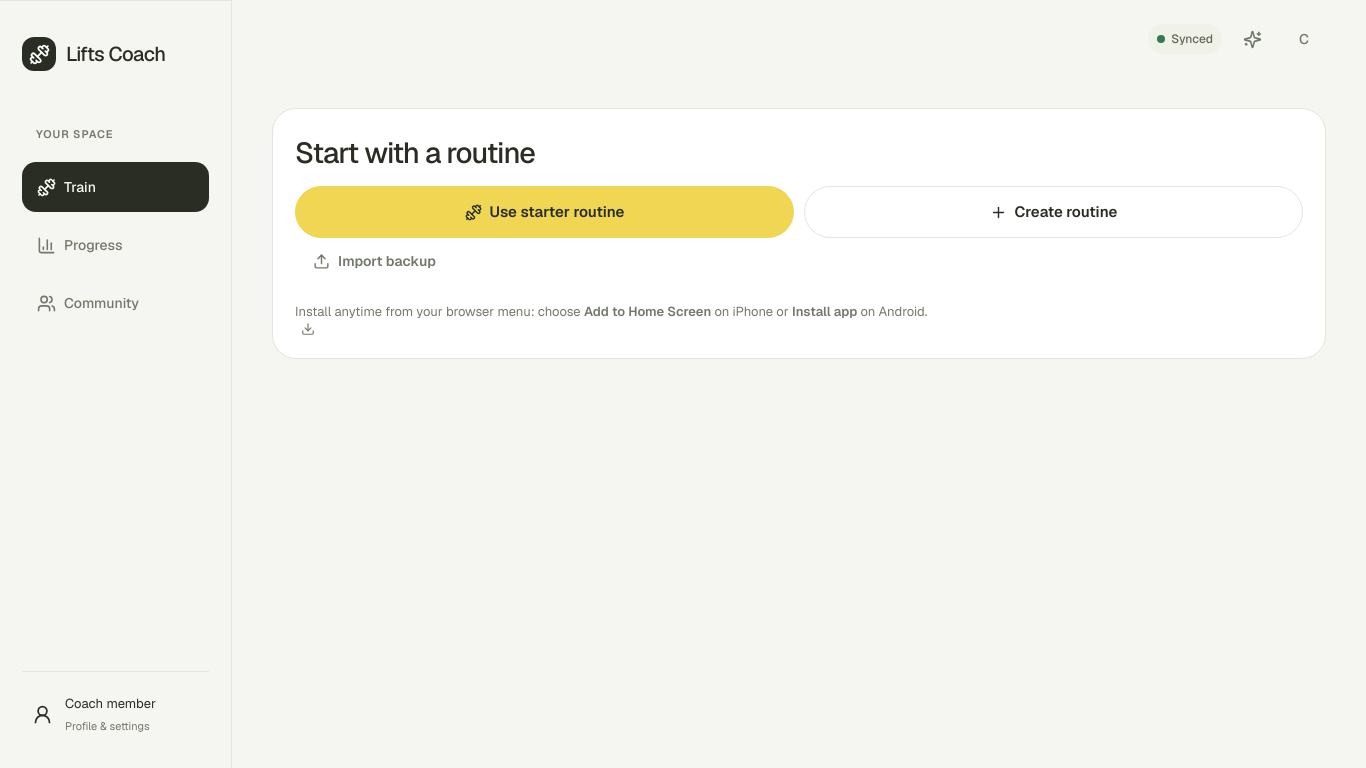
Test: chats across turns with a provisioned default when the saved model is blank
Click the button named "Ask Coach": [1252, 39] box [1230,17,1274,61]
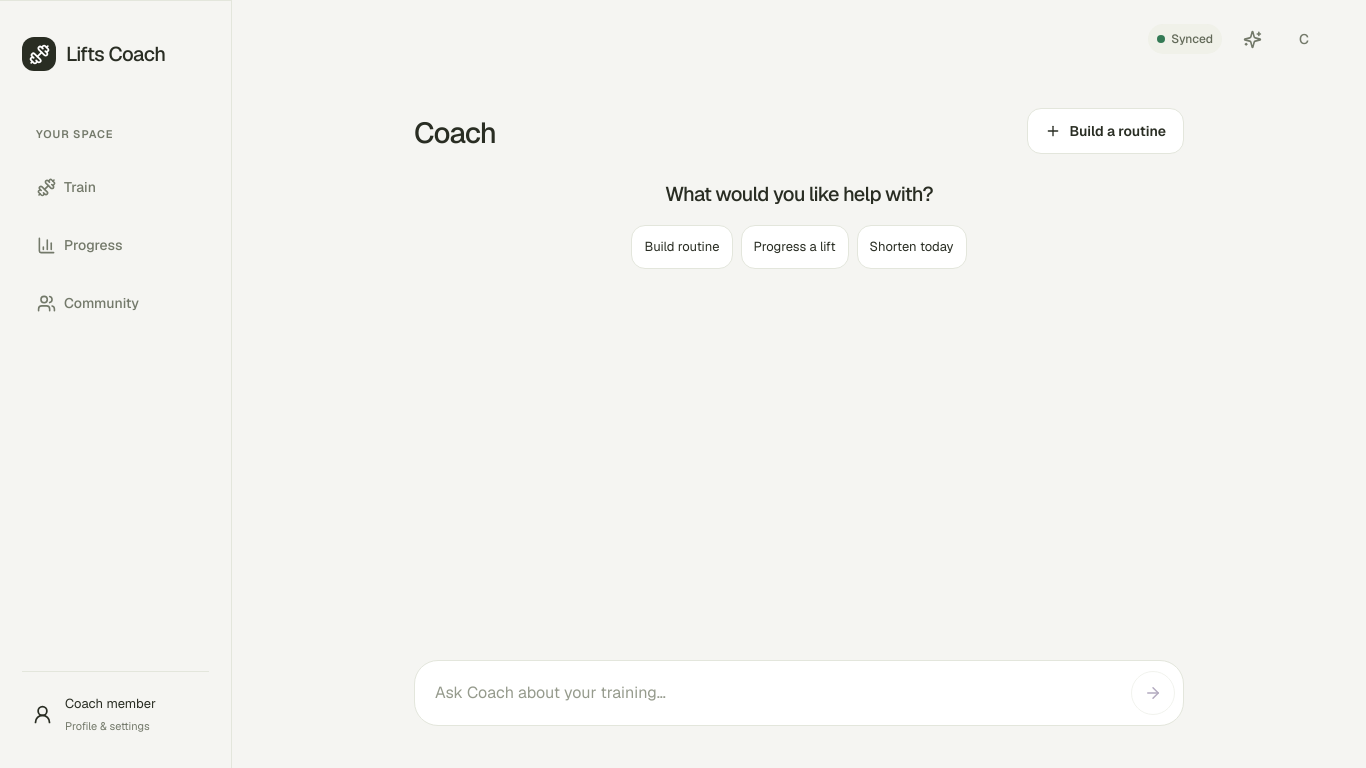
In the text box named "Message Coach": [773, 693] box [423,669,1123,717], type "I train twice a week"
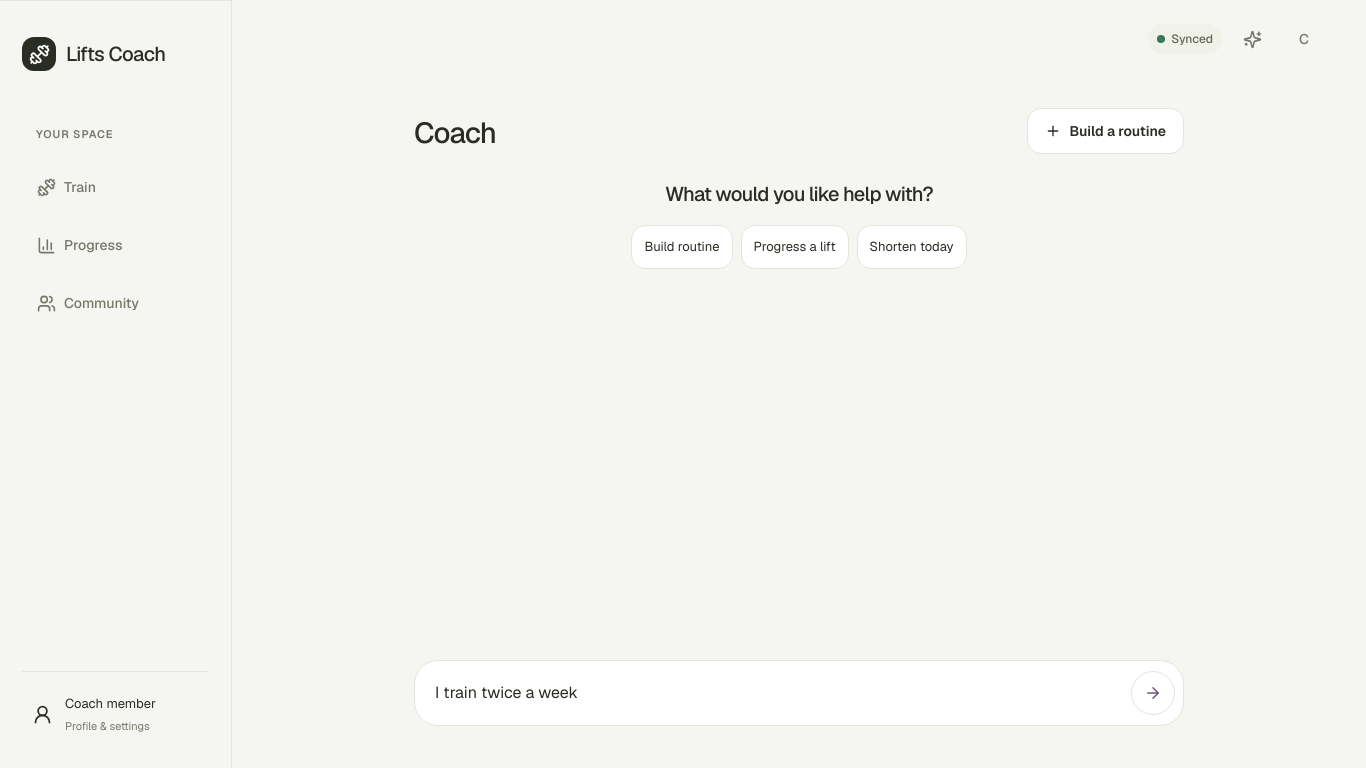
Click the button named "Send message": [1153, 693] box [1131,671,1175,715]
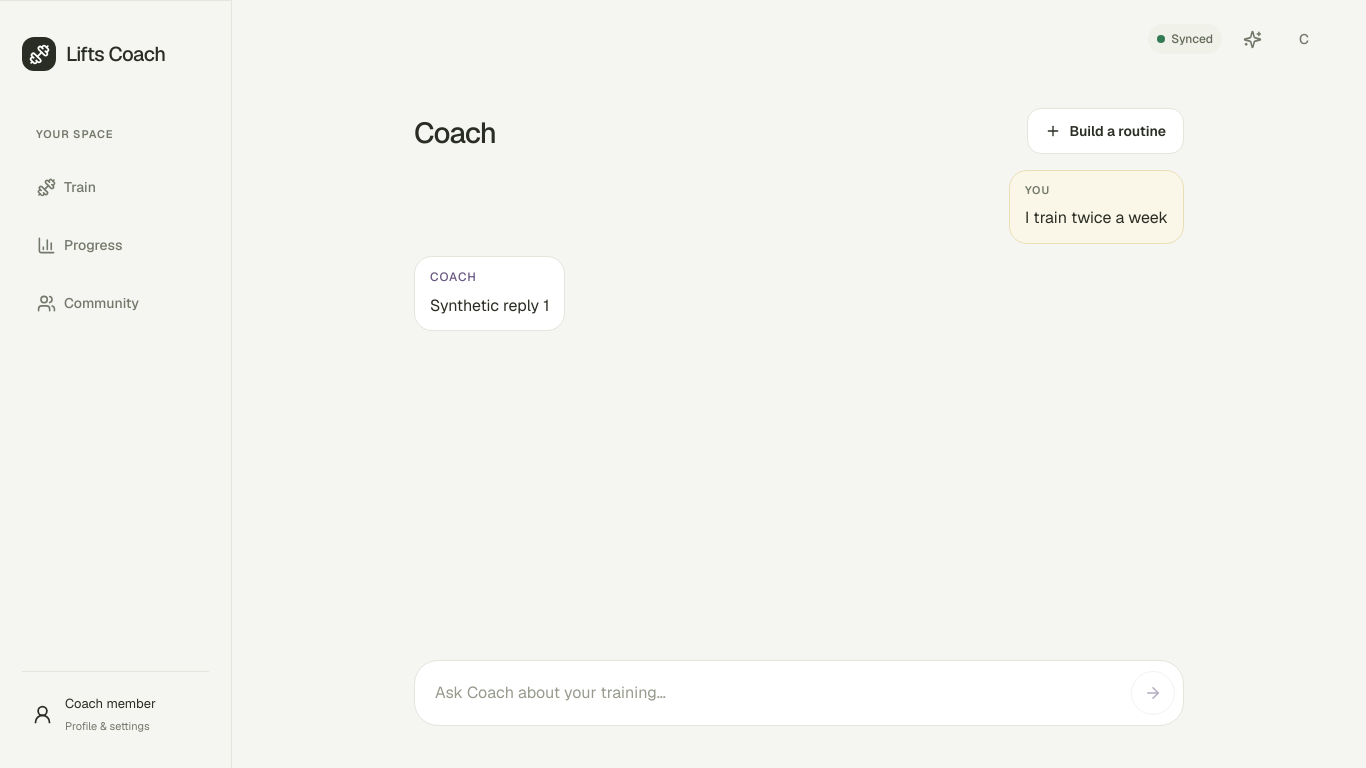
Expected: the text "Synthetic reply 1" is shown, [430,293,549,318]
In the text box named "Message Coach": [773, 693] box [423,669,1123,717], type "Help me build a routine"
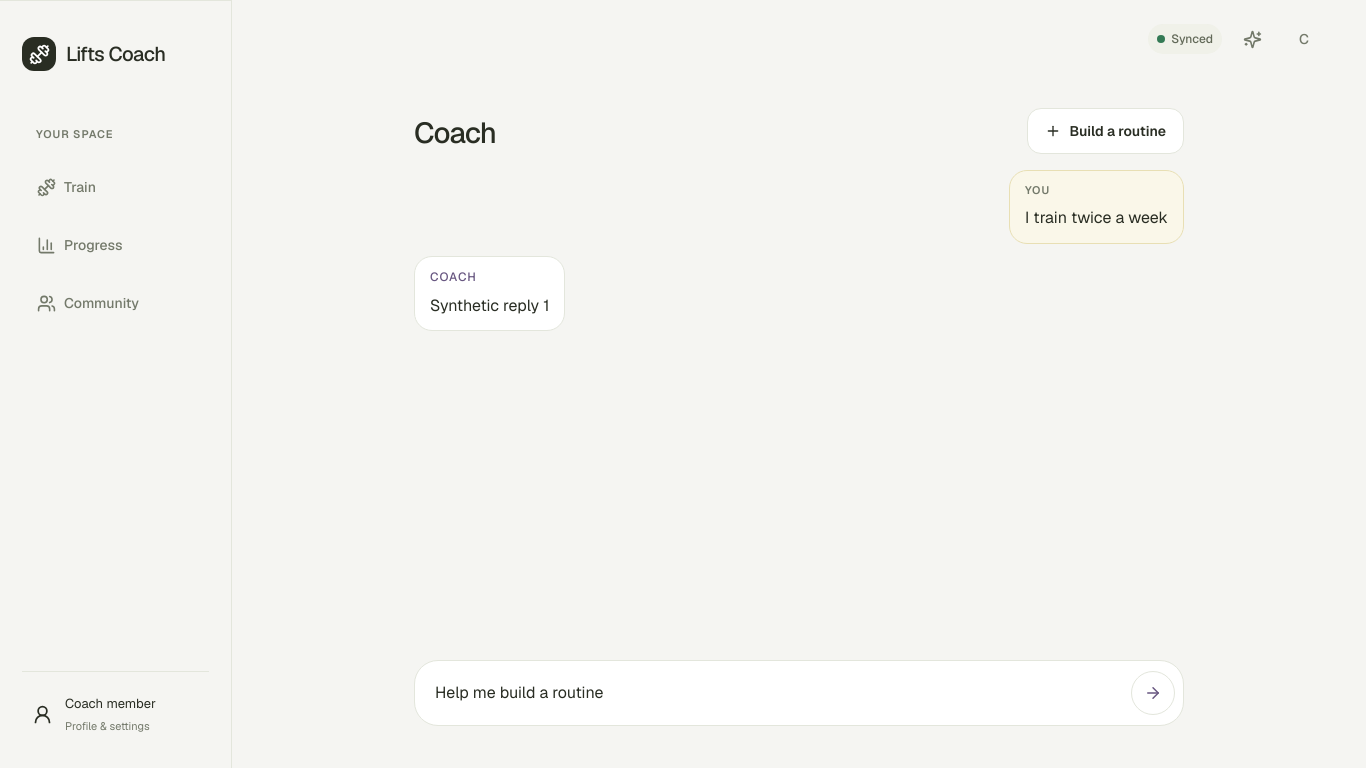
Click the button named "Send message": [1153, 693] box [1131,671,1175,715]
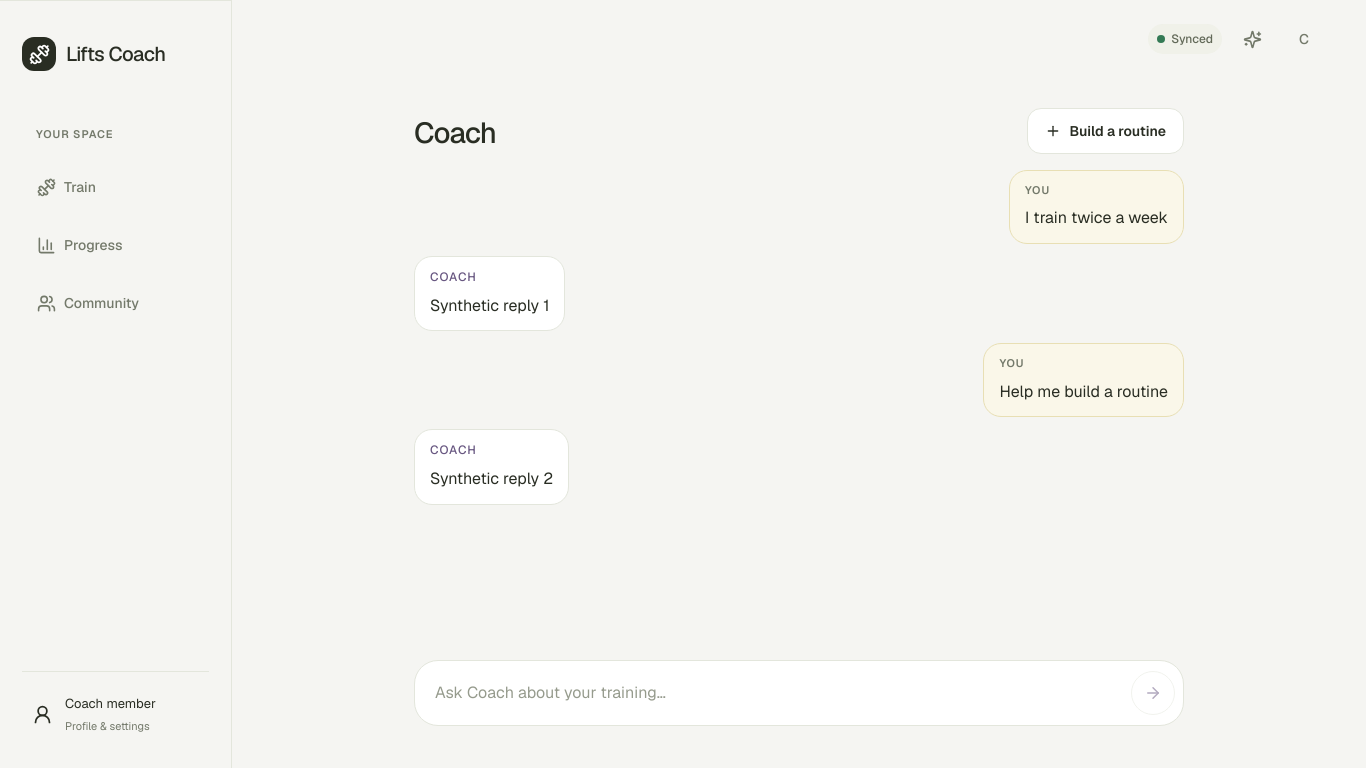
Expected: the text "Synthetic reply 2" is shown, [430,466,553,492]
